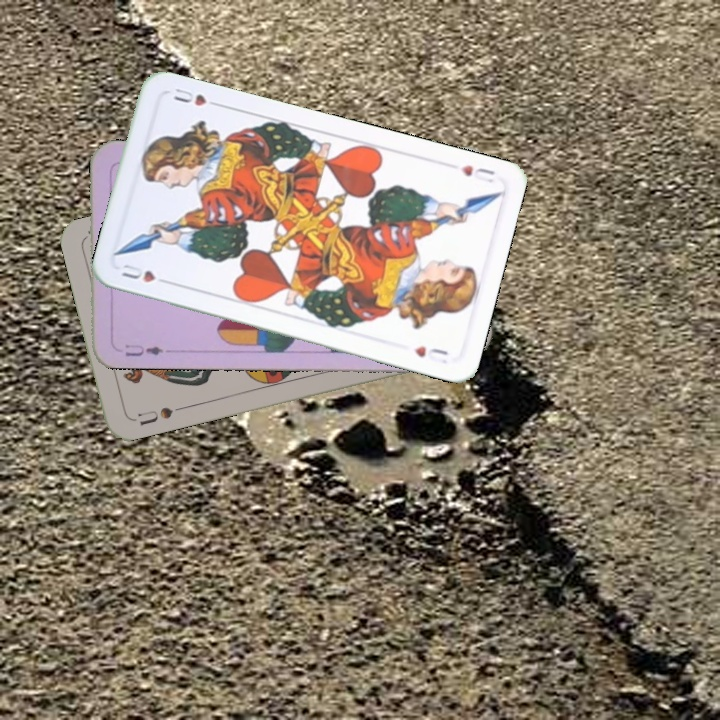EU: (121, 340, 166, 359)
HU: (118, 260, 174, 288), (457, 160, 498, 185)
SU: (133, 402, 187, 428)
